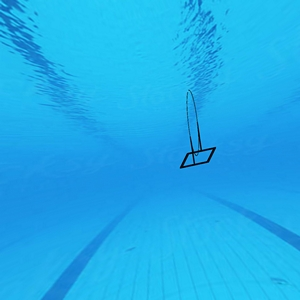circle: (173, 84, 228, 179)
